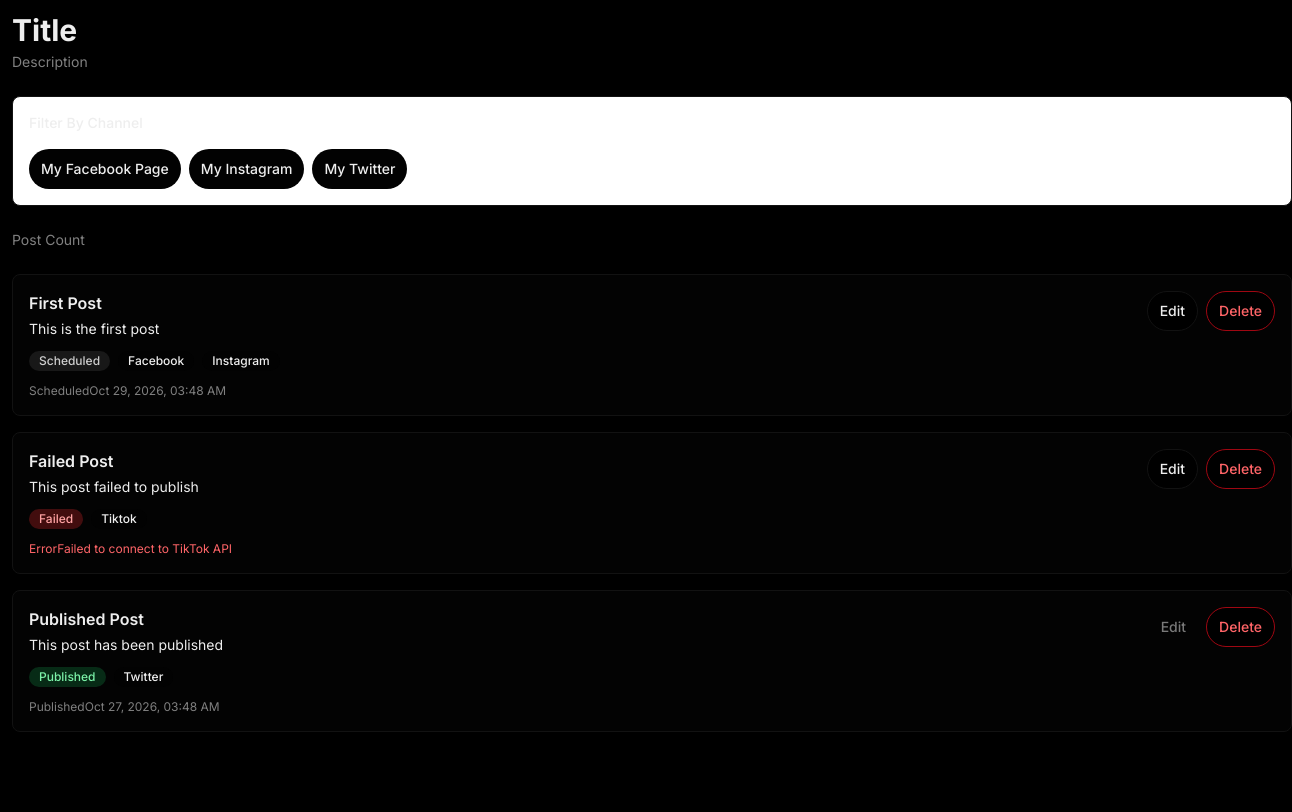
Test: PublishContainer › handles multiple channel filters
// Click on Facebook and Twitter filters
Click the button "My Facebook Page".
click(105, 169)  # box 29,149 -> 181,189
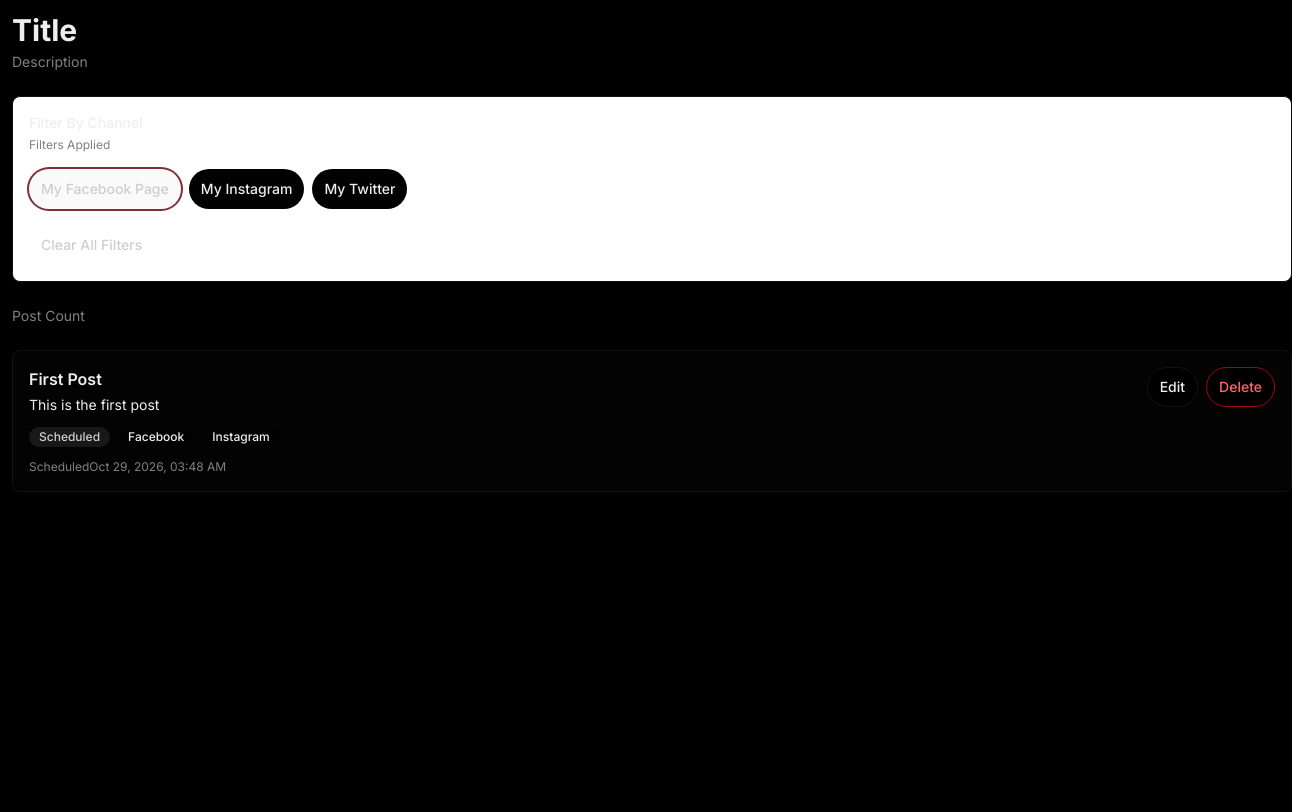
Click the button "My Twitter".
click(360, 189)  # box 312,169 -> 407,209
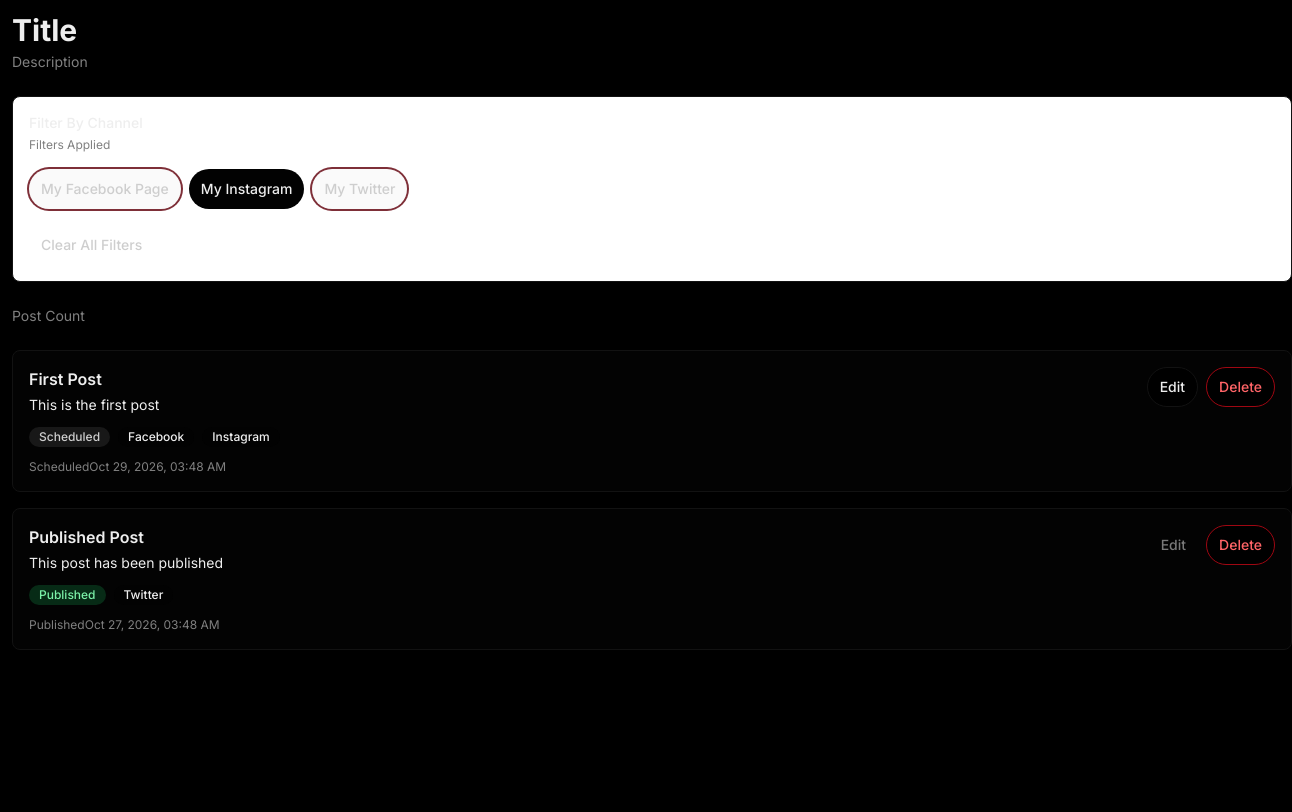
Expected: the heading "First Post" is shown, 29,369 -> 102,389
Expected: the heading "Published Post" is shown, 29,527 -> 144,547
